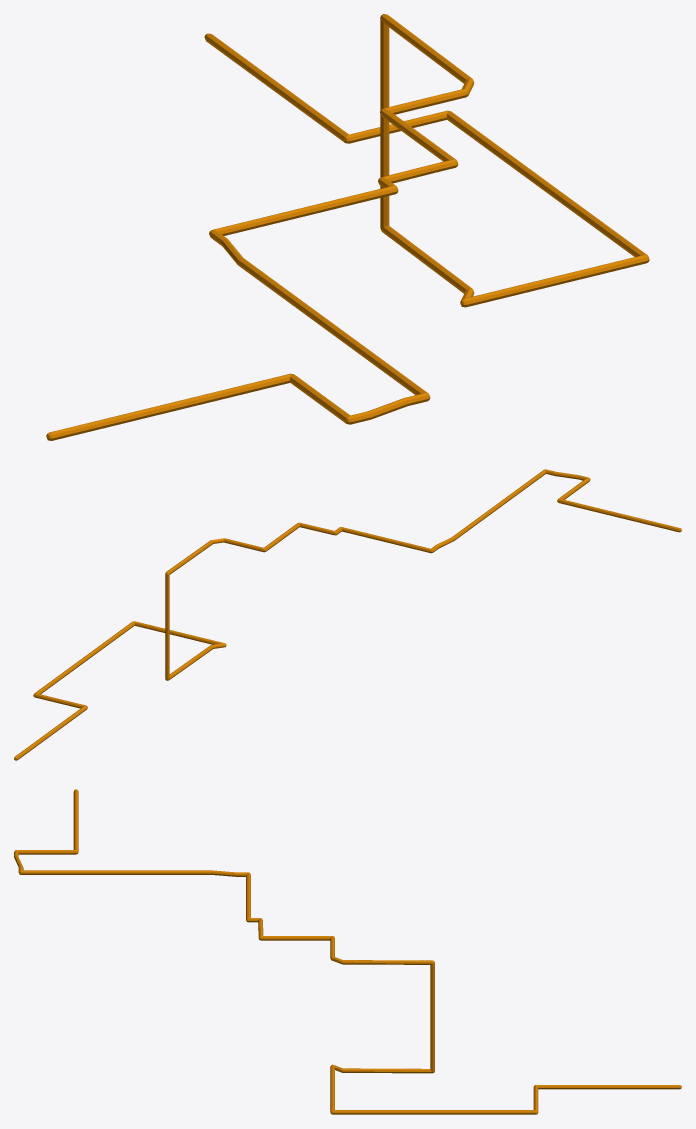
The picture shows the model from 3 angles, top to bottom: view 1: azimuth 30°, elevation 25°; view 2: azimuth 150°, elevation 25°; view 3: azimuth 270°, elevation 25°; orthographic projection. The views are drawn at different scales.
Bounding box in the file's own units: 2121 × 520 × 2793.
